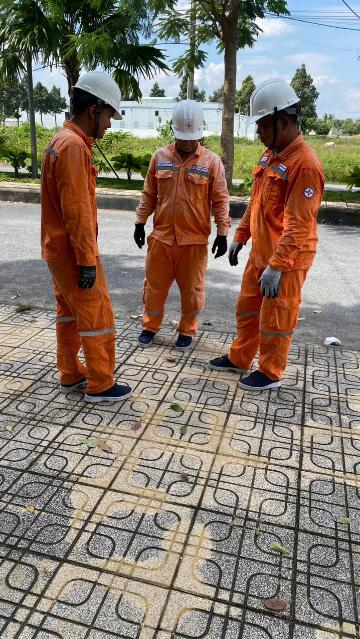gloves: (248, 261, 287, 299), (68, 254, 103, 295), (199, 230, 238, 265), (124, 214, 151, 256), (230, 238, 247, 274)
helmet: (65, 64, 136, 130), (242, 73, 310, 122), (159, 99, 221, 143)
shoes: (81, 375, 170, 412), (231, 363, 310, 401), (201, 339, 252, 378), (51, 367, 84, 409), (171, 320, 191, 369), (135, 321, 167, 351)
